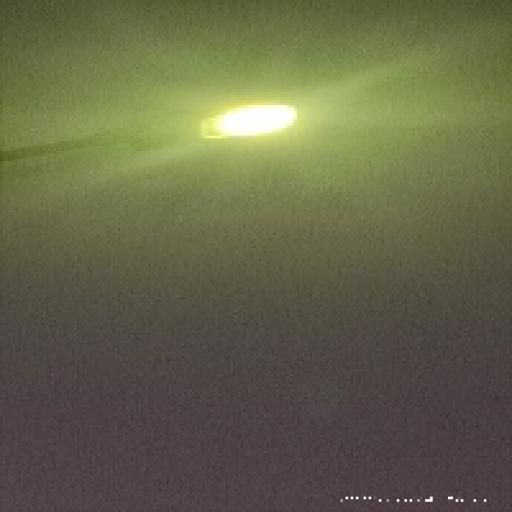Working: (187, 96, 317, 160)
